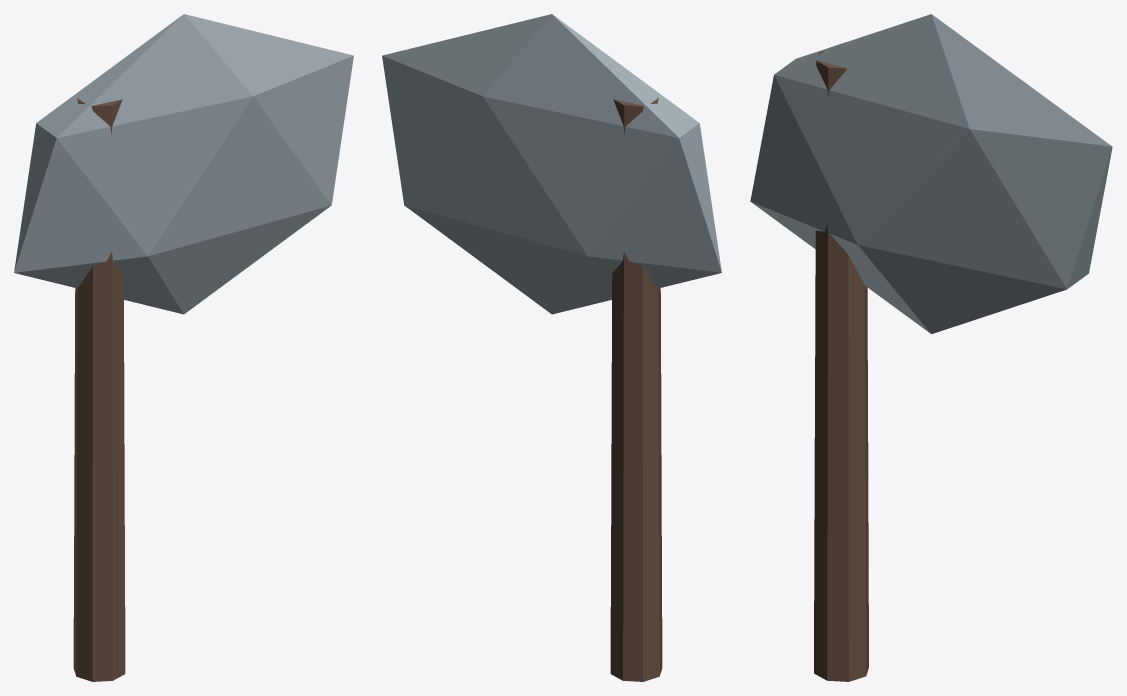
The model's file is SH10_Axe.fbx.
3 renders of one model, left to right at view 1: azimuth 30°, elevation 25°; view 2: azimuth 150°, elevation 25°; view 3: azimuth 330°, elevation 25°, orthographic. The views are drawn at different scales.
Visible parts, largest first — view 1: SH10_Axe; view 2: SH10_Axe; view 3: SH10_Axe.
Part boxes in pixels (x1,y1,x2,y2): SH10_Axe: (14,14,353,681); SH10_Axe: (382,14,721,681); SH10_Axe: (750,14,1112,681).
Size of the model in its own units: 80.5 by 144 by 13.61.
